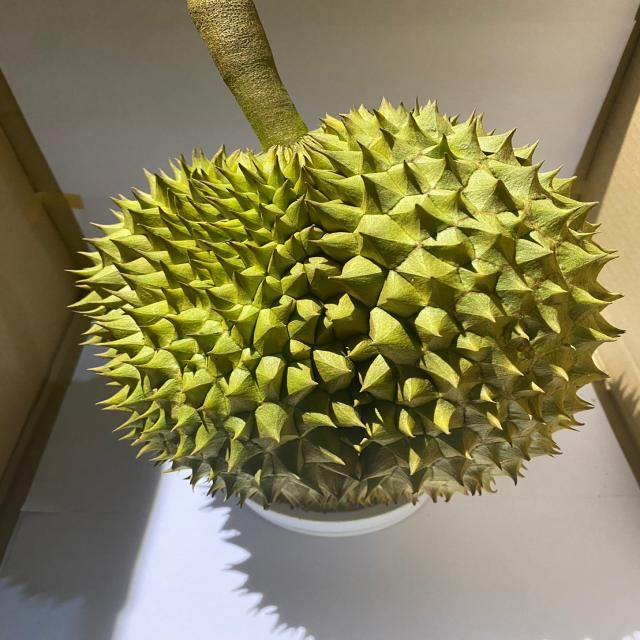immature: (64, 91, 630, 516)
